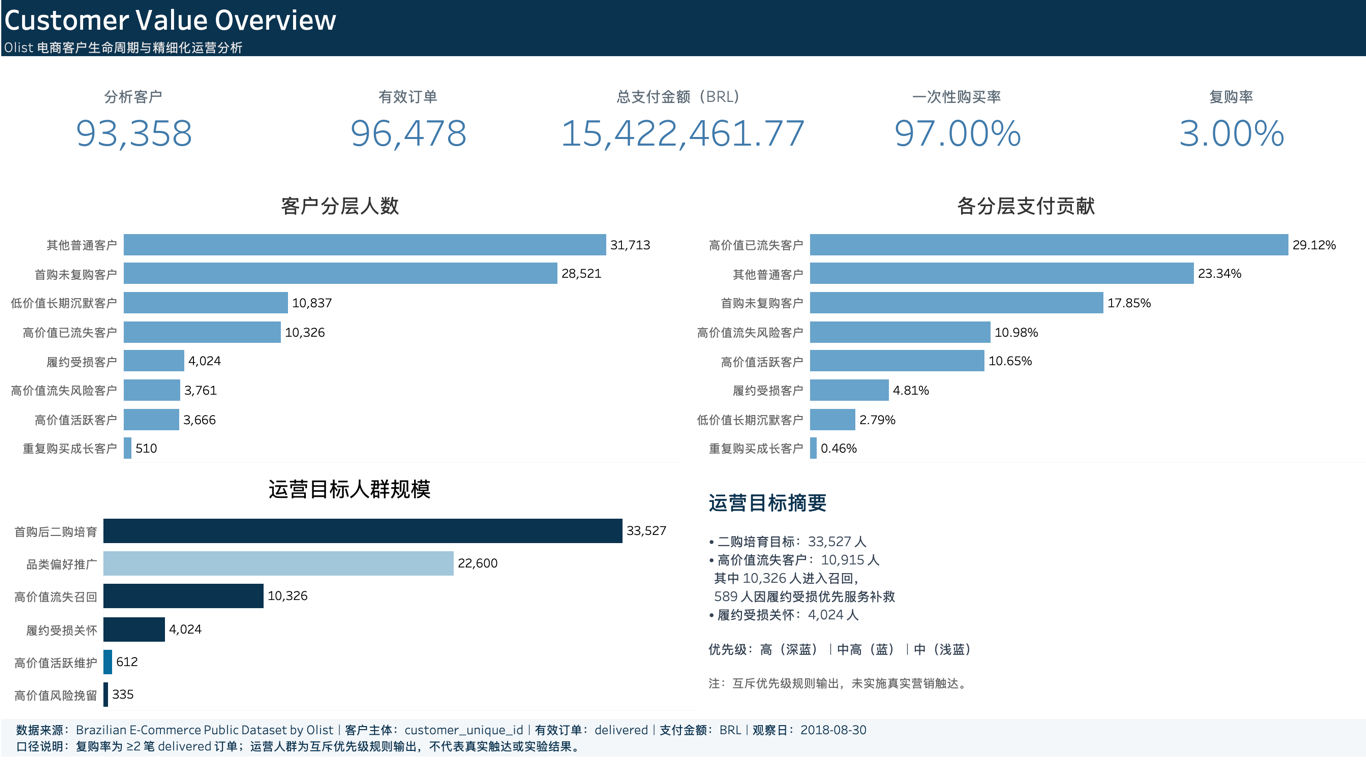

The page's visual inventory and layout, read from the dashboard file:
{"tool":"tableau","page":{"name":"Customer Value Overview","canvas":[1366,768],"ordinal":1},"visuals":[{"type":"text","box":[8,8,1350,63]},{"type":"worksheet","title":"KPI Customers","mark":"Automatic","box":[8,71,270,120]},{"type":"worksheet","title":"KPI Orders","mark":"Automatic","box":[278,71,270,120]},{"type":"worksheet","title":"KPI Payment","mark":"Automatic","box":[548,71,270,120]},{"type":"worksheet","title":"KPI One-Time Rate","mark":"Automatic","box":[818,71,270,120]},{"type":"worksheet","title":"KPI Repeat Rate","mark":"Automatic","box":[1088,71,270,120]},{"type":"worksheet","title":"Segment Size","mark":"Automatic","rows":["segment"],"cols":["customer_count"],"box":[8,191,675,280]},{"type":"worksheet","title":"Payment Share","mark":"Automatic","rows":["segment"],"cols":["payment_share"],"box":[683,191,675,280]},{"type":"worksheet","title":"Campaign Target Volume","mark":"Automatic","rows":["Calculation_6235299737473024"],"cols":["customer_count"],"box":[8,471,693,244]},{"type":"text","box":[701,471,657,244]},{"type":"text","box":[8,715,1350,45]}]}

Visuals, with their boxes in screenshot pixels (x1, y1, x2, y2), scaled from the page's 1366x768 canvas onto the 1366x768 screenshot:
text: bbox(8, 8, 1358, 71)
"KPI Customers" worksheet: bbox(8, 71, 278, 191)
"KPI Orders" worksheet: bbox(278, 71, 548, 191)
"KPI Payment" worksheet: bbox(548, 71, 818, 191)
"KPI One-Time Rate" worksheet: bbox(818, 71, 1088, 191)
"KPI Repeat Rate" worksheet: bbox(1088, 71, 1358, 191)
"Segment Size" worksheet: bbox(8, 191, 683, 471)
"Payment Share" worksheet: bbox(683, 191, 1358, 471)
"Campaign Target Volume" worksheet: bbox(8, 471, 701, 715)
text: bbox(701, 471, 1358, 715)
text: bbox(8, 715, 1358, 760)
